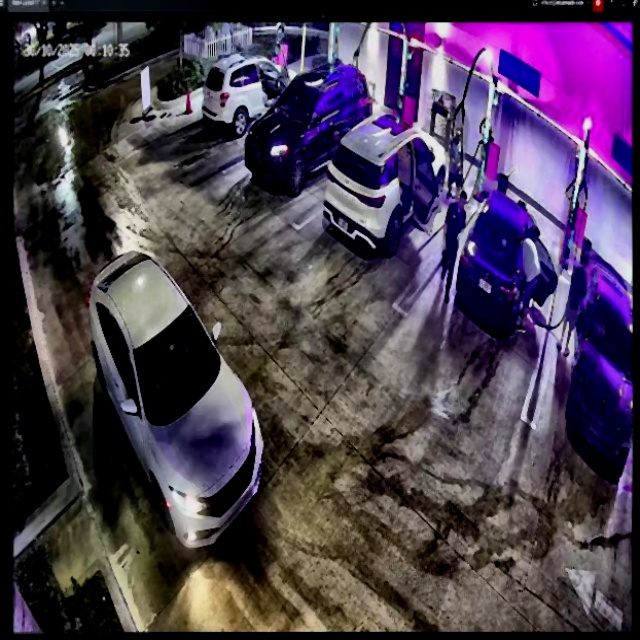Car: (90, 248, 264, 552), (323, 107, 445, 249), (247, 60, 371, 189), (456, 183, 554, 336)
